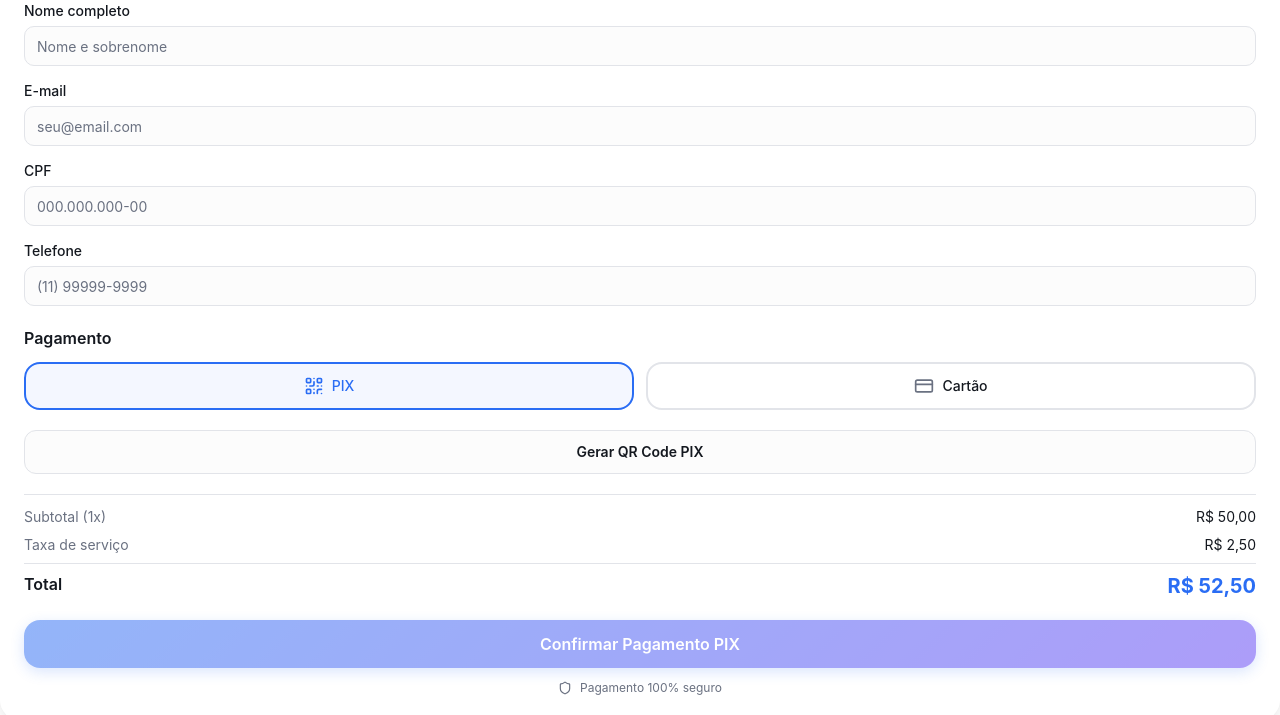
Test: CheckoutPanel (desktop) – validação inline › cartão: valida também número, titular, validade e CVV
The image size is (1280, 715).
(page scrolled)
Click the button "Cartão" at (951, 386), box [646,362,1256,410]
(page scrolled)
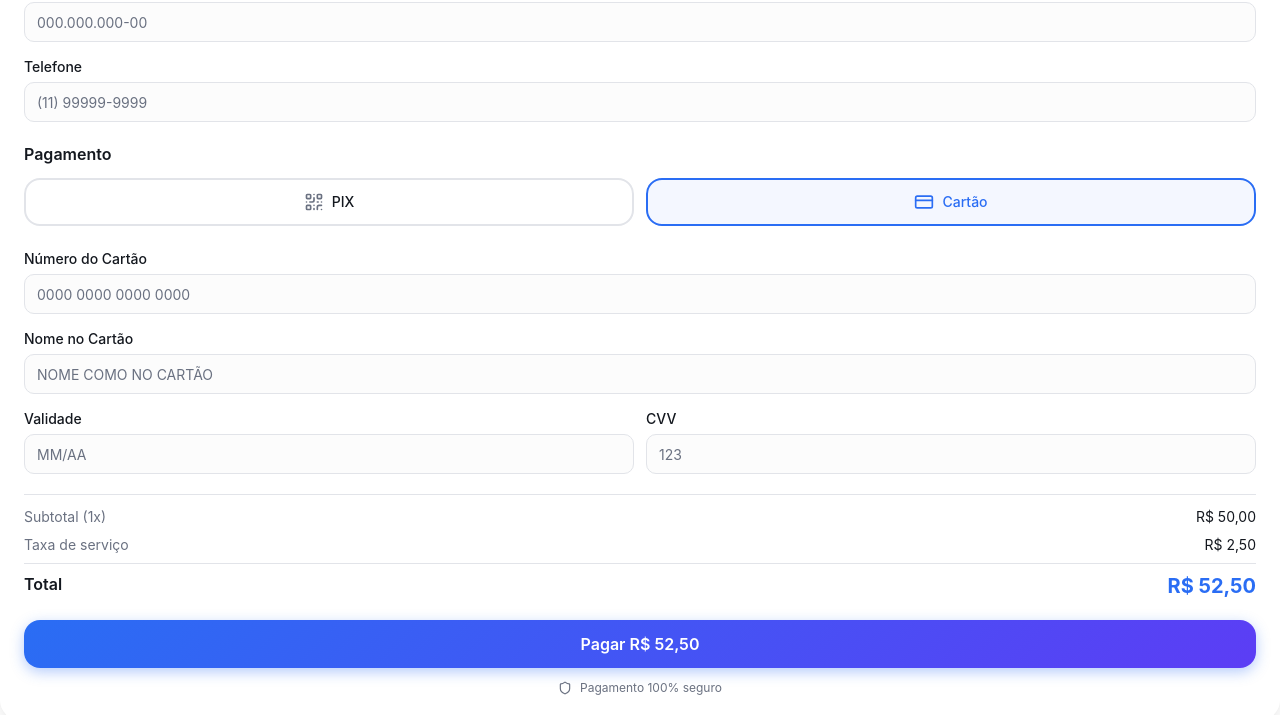
Click the button "Pagar R$ 52,50" at (640, 644), box [24,620,1256,668]
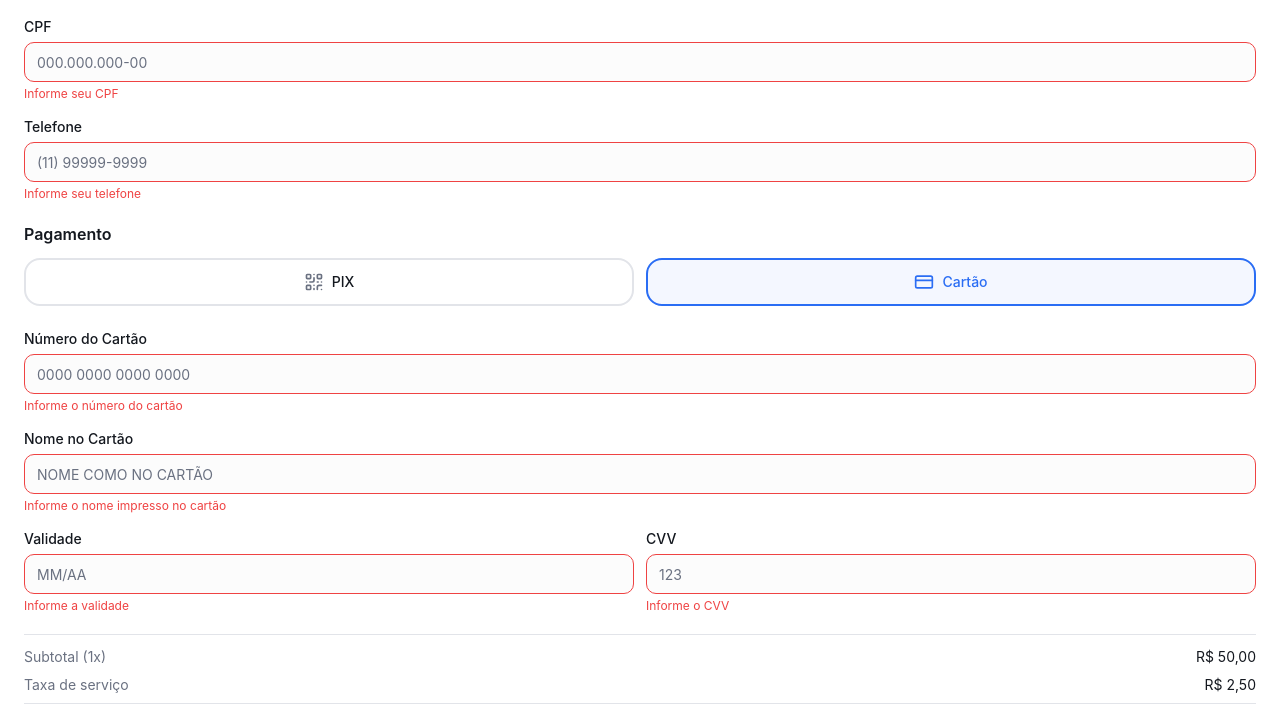
Result: the text "Informe o número do cartão" is shown at [24,398,183,413]
Result: the text "Informe o nome impresso no cartão" is shown at [24,498,226,513]
Result: the text "Informe a validade" is shown at [24,598,129,613]
Type "0120" into the field labelled "Validade" at (329, 574), box [24,554,634,594]
(page scrolled)
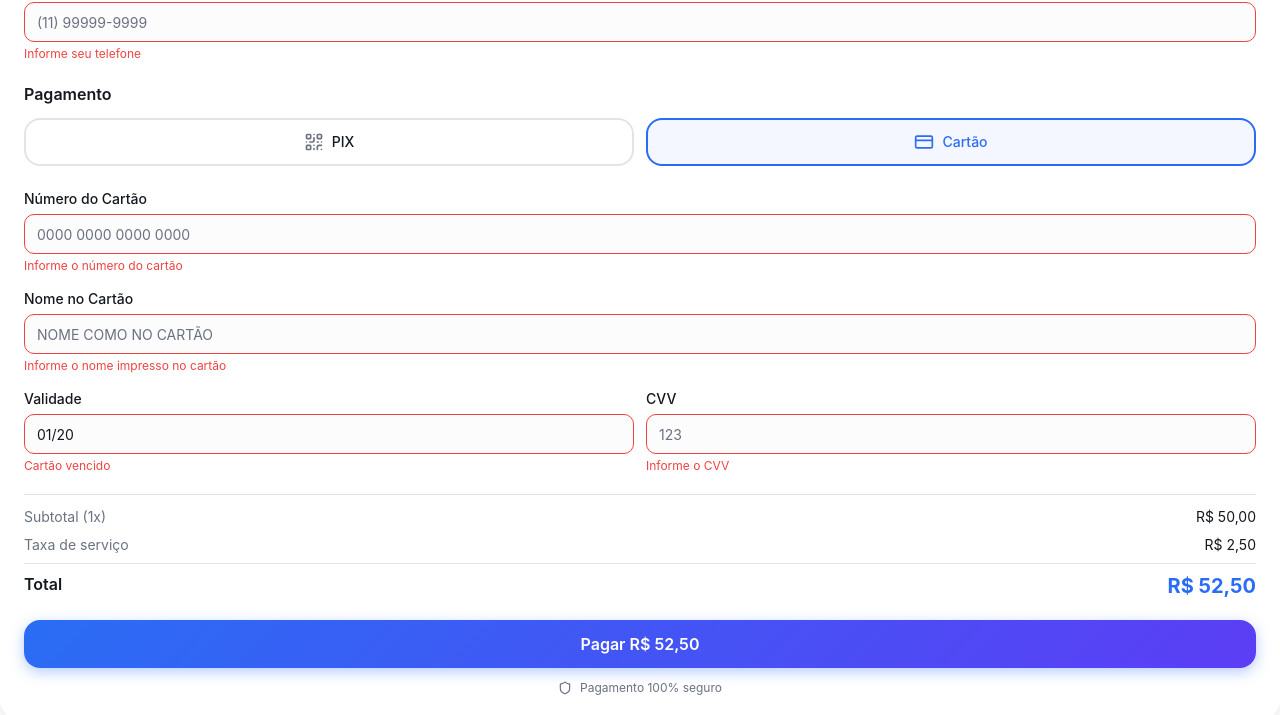
Result: the text "Cartão vencido" is shown at [24,458,110,473]
